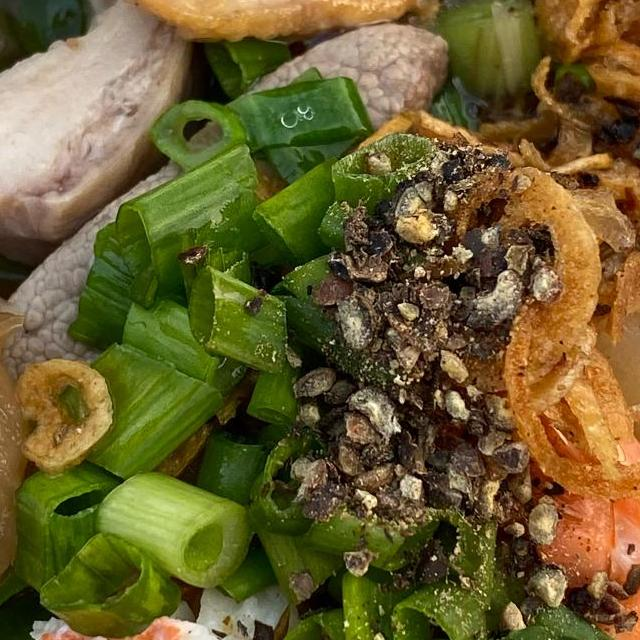tom: (4, 297, 640, 640)
